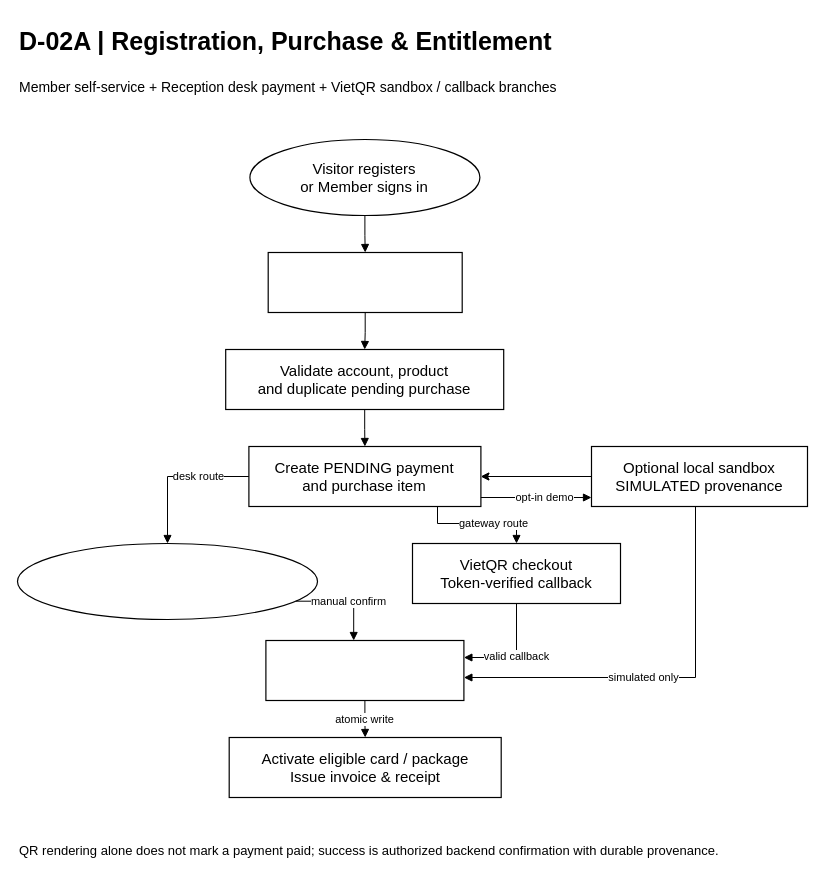
Image size: 826x891. Some labels were removed from this diagram. The shapes that lost their labels are listed below. From the top down, each one's centre as x and y in pixels, then its label:
At [364,282]: "Select sport package or membership card".
At [167,581]: "CASH / bank transfer Receptionist verifies funds".
At [364,670]: "Validated settlement PENDING → SUCCESS".
